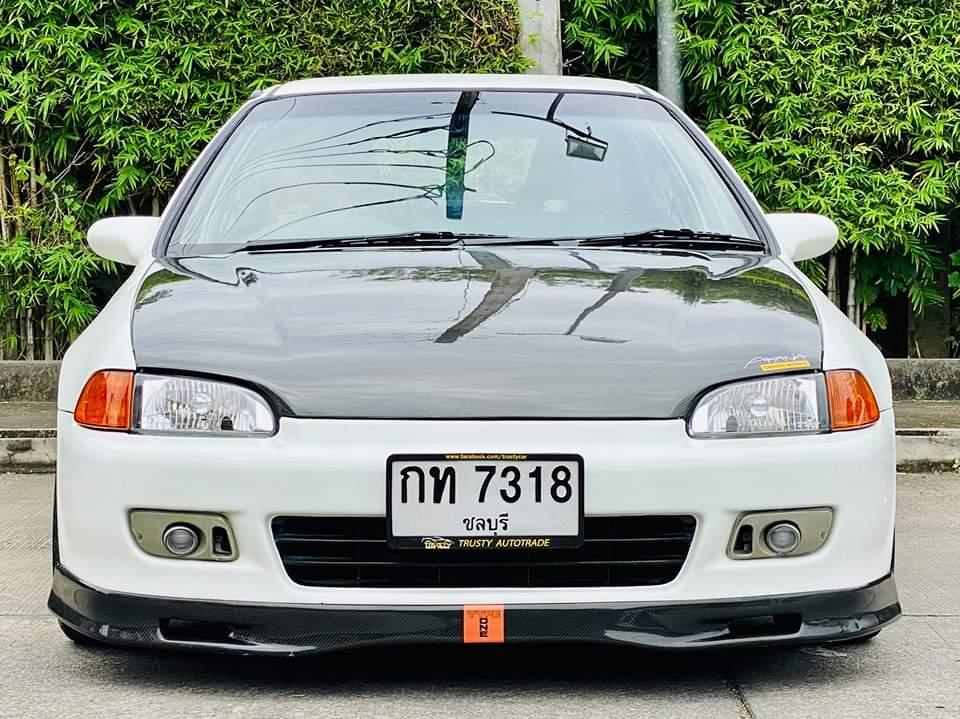license-plate: (381, 449, 586, 553)
